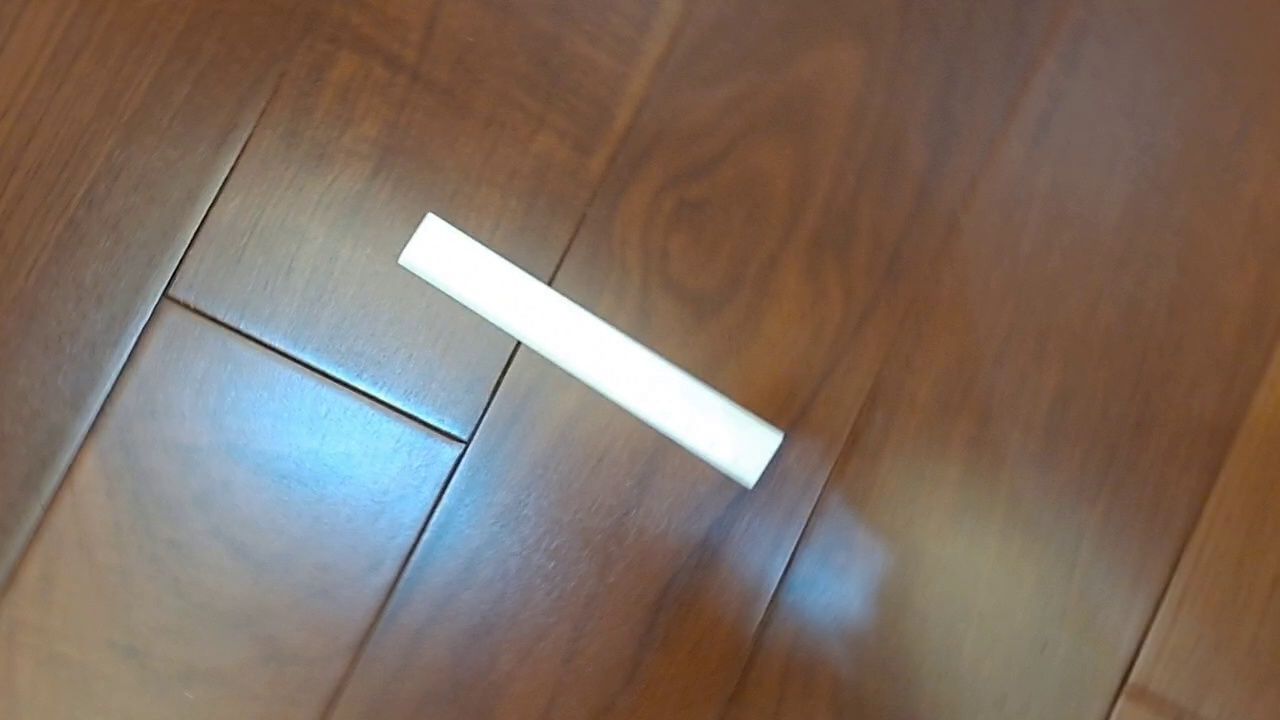ruler: (395, 209, 788, 492)
